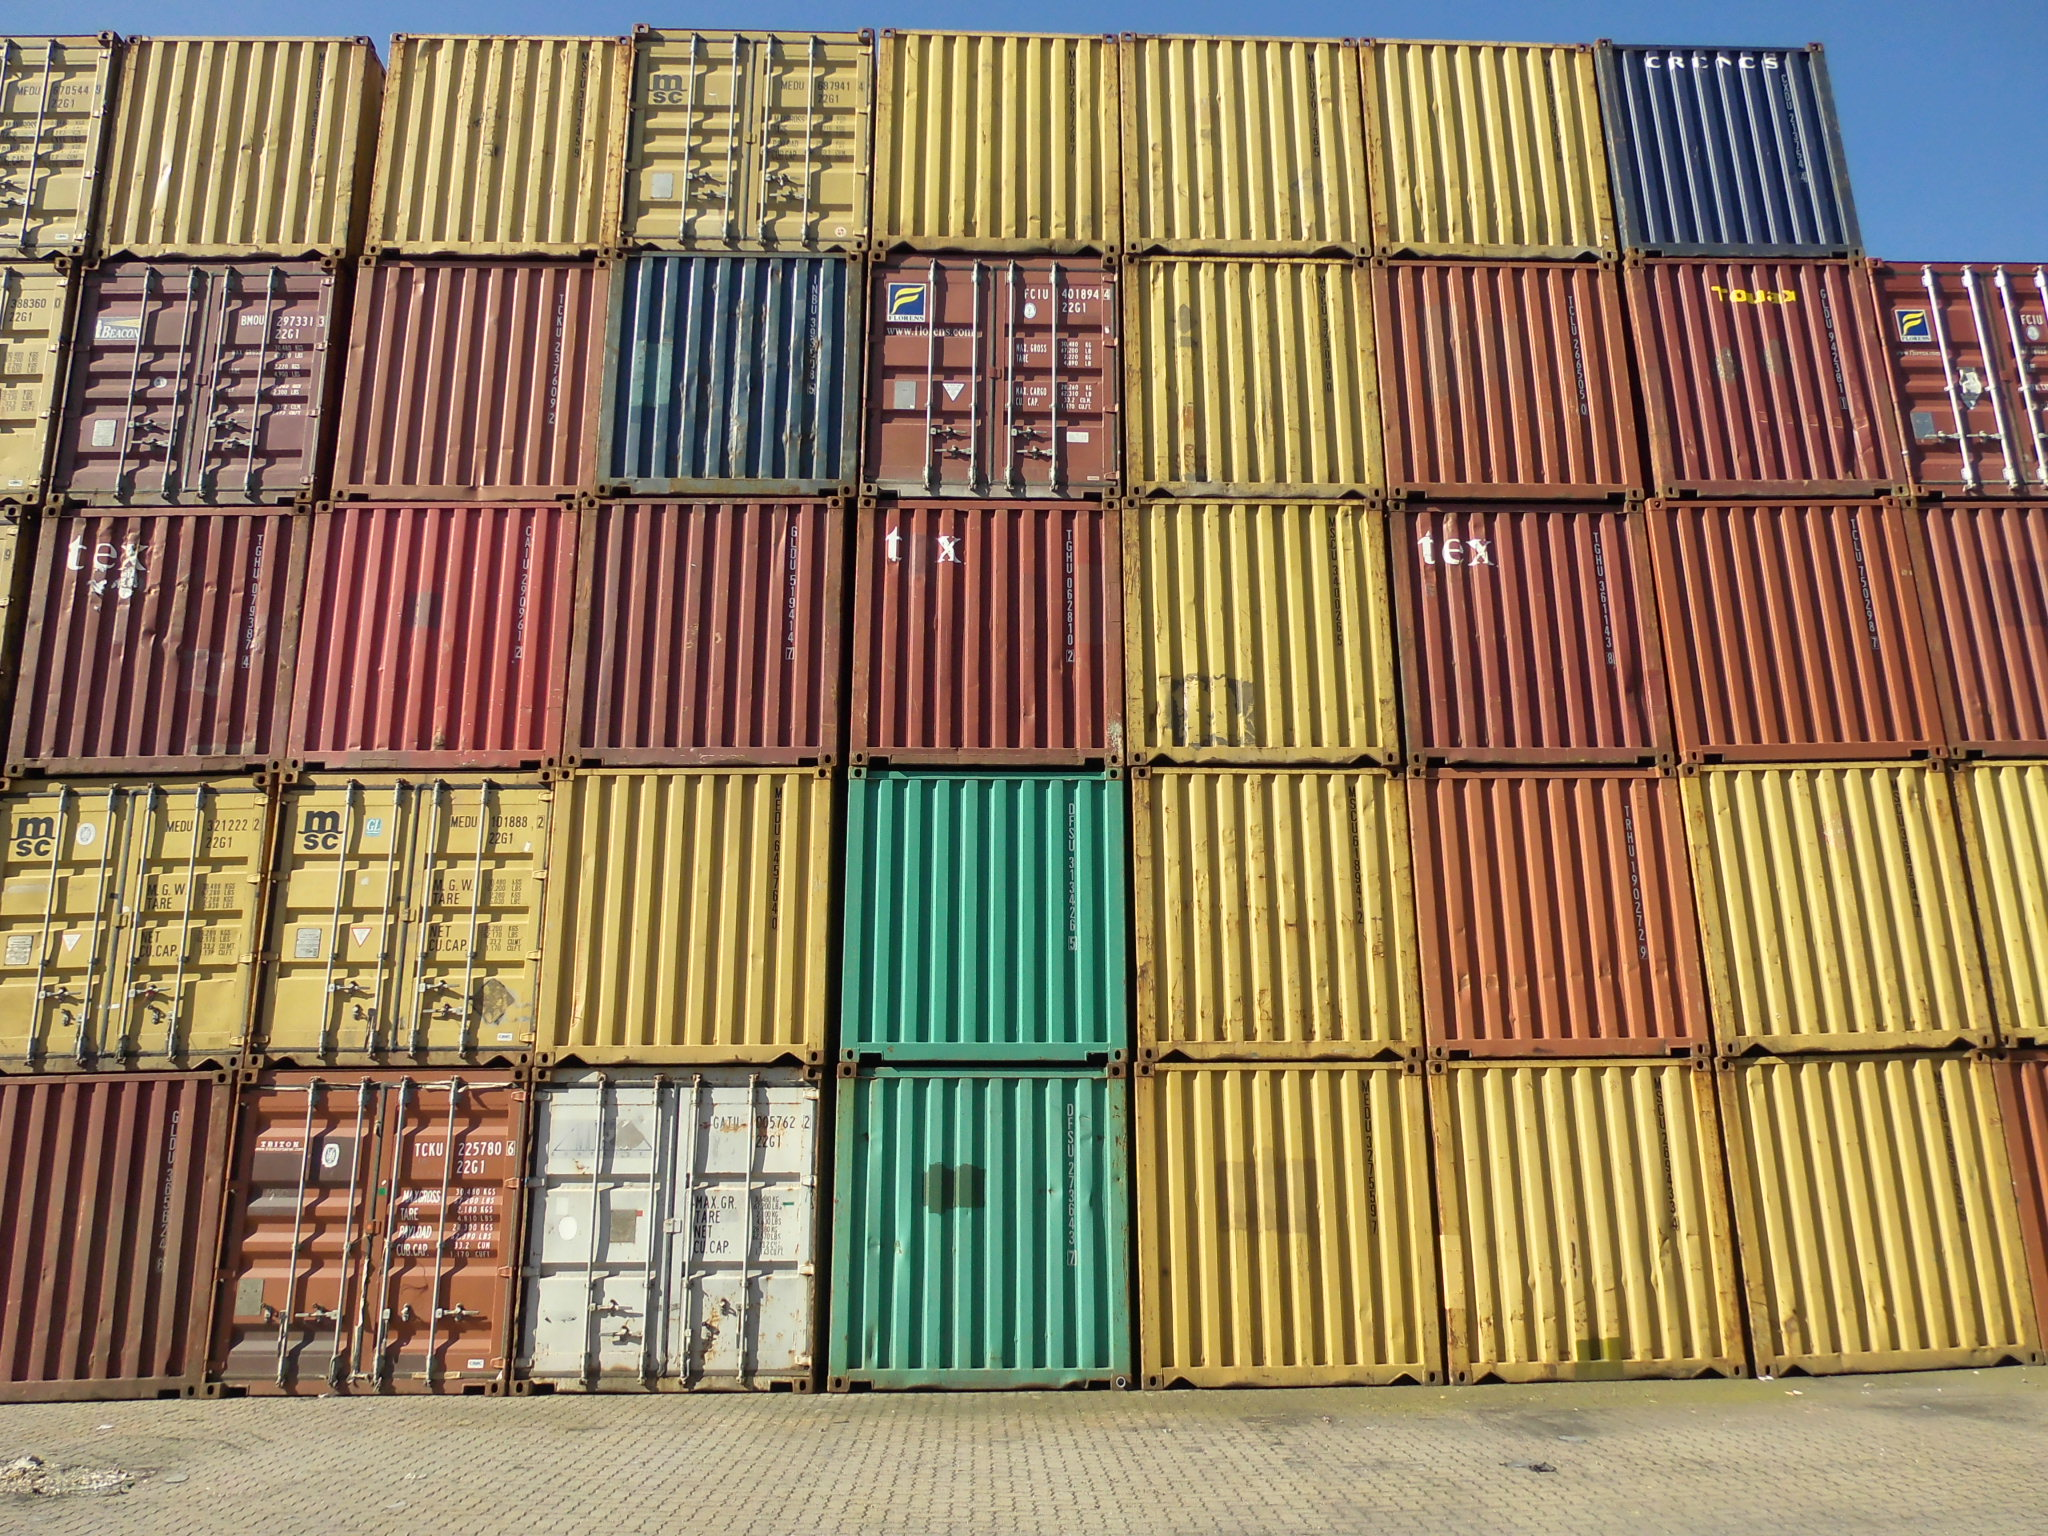container_door: (244, 1070, 513, 1383), (547, 1075, 814, 1388), (273, 778, 556, 1055), (2, 791, 261, 1068), (81, 253, 319, 502), (871, 257, 1109, 503), (639, 27, 884, 245), (1887, 257, 2038, 505)
container_no_door: (1417, 1054, 1738, 1371), (1727, 1049, 2048, 1367), (840, 1070, 1127, 1391), (1122, 1058, 1409, 1379), (1408, 763, 1696, 1047), (1126, 770, 1413, 1054), (1695, 765, 1982, 1049), (845, 487, 1126, 773), (1400, 484, 1680, 770), (297, 495, 577, 779), (564, 490, 845, 774), (1121, 490, 1401, 774), (1675, 486, 1956, 770), (15, 499, 293, 783), (566, 765, 827, 1060), (853, 774, 1114, 1070), (10, 1083, 227, 1392), (598, 253, 863, 495), (339, 252, 601, 494), (1638, 255, 1901, 497), (1372, 250, 1637, 490), (1127, 257, 1390, 497), (381, 32, 614, 244), (1129, 39, 1363, 250), (1367, 37, 1601, 248), (116, 31, 348, 242), (890, 31, 1122, 240), (1614, 47, 1846, 257)
